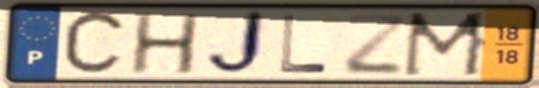C: (59, 7, 131, 80)
H: (126, 11, 202, 77)
J: (202, 9, 270, 80)
L: (276, 14, 331, 75)
M: (399, 10, 492, 80)
Z: (341, 12, 410, 77)
